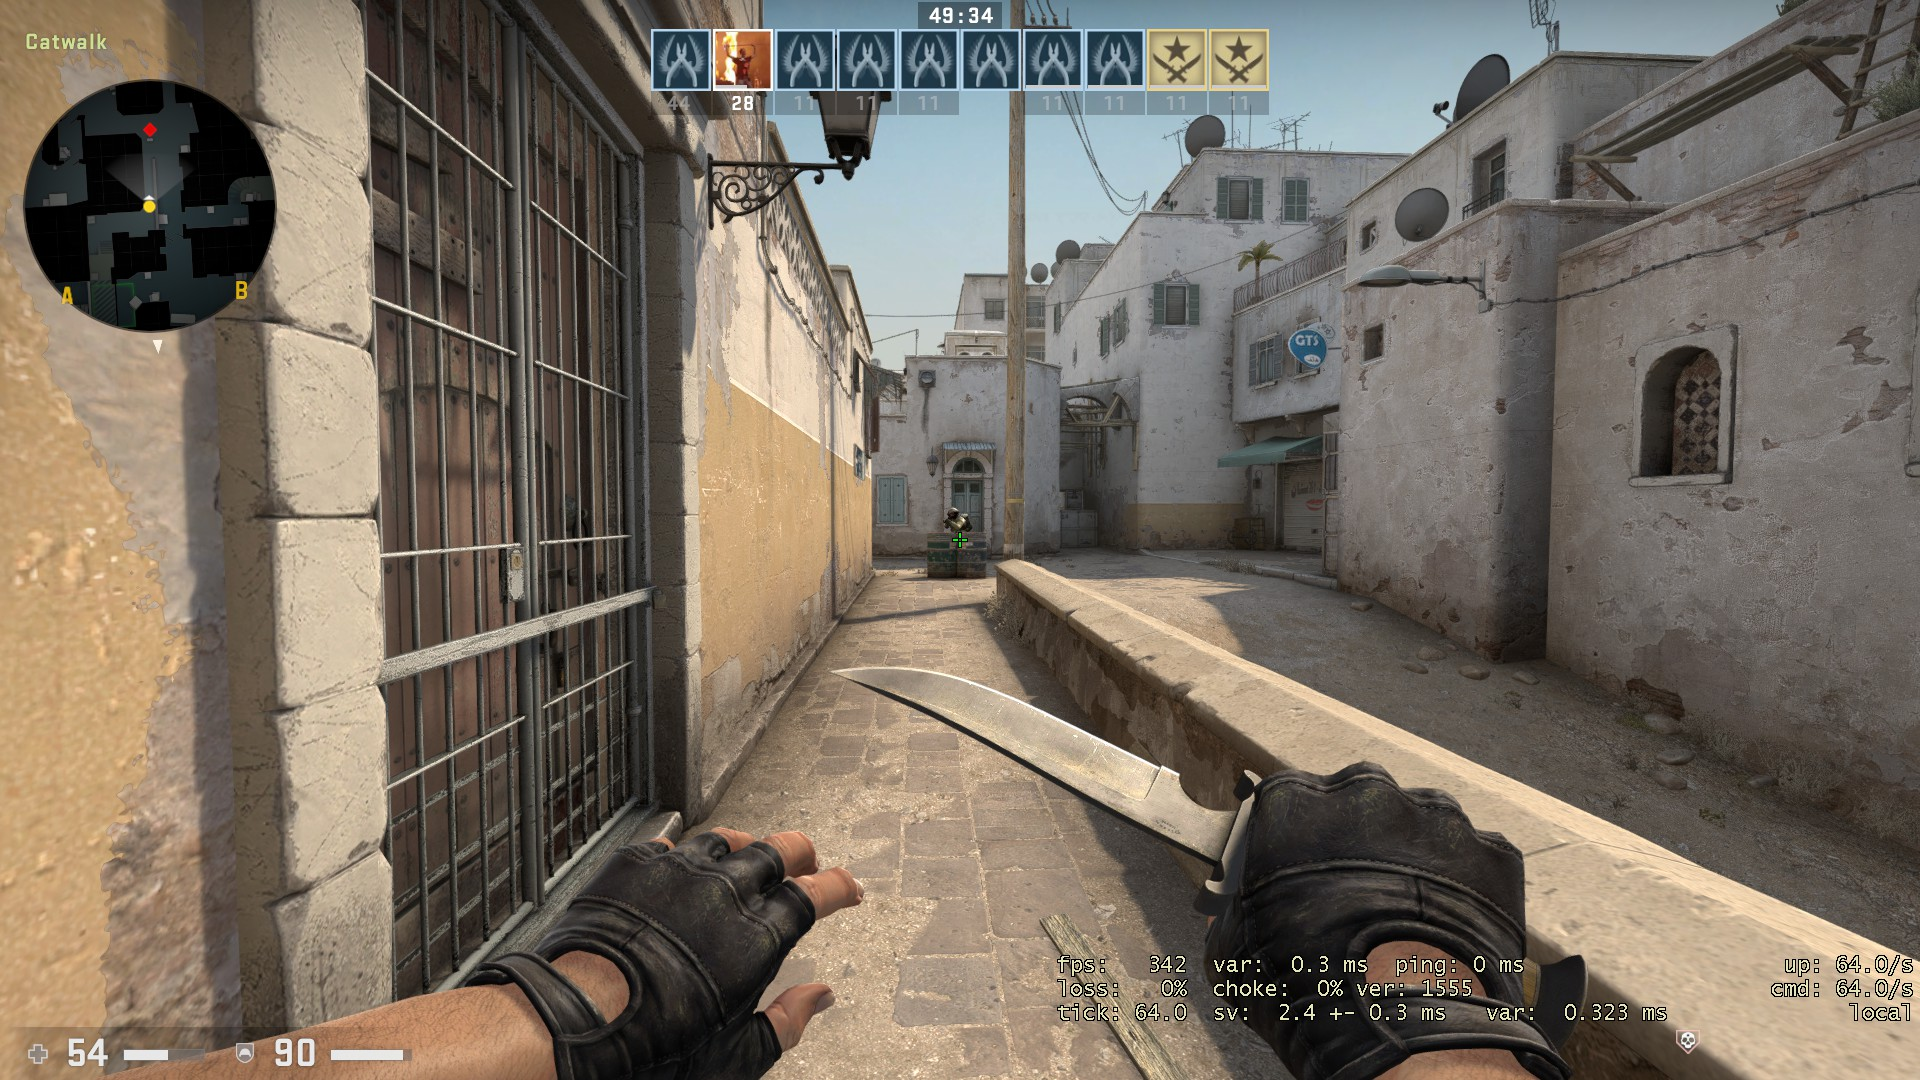player: (932, 489, 980, 538)
